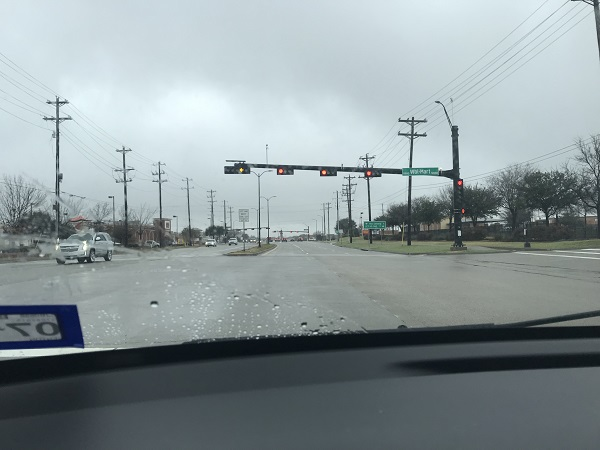car: (52, 229, 113, 264), (203, 237, 215, 245), (229, 237, 237, 246)
